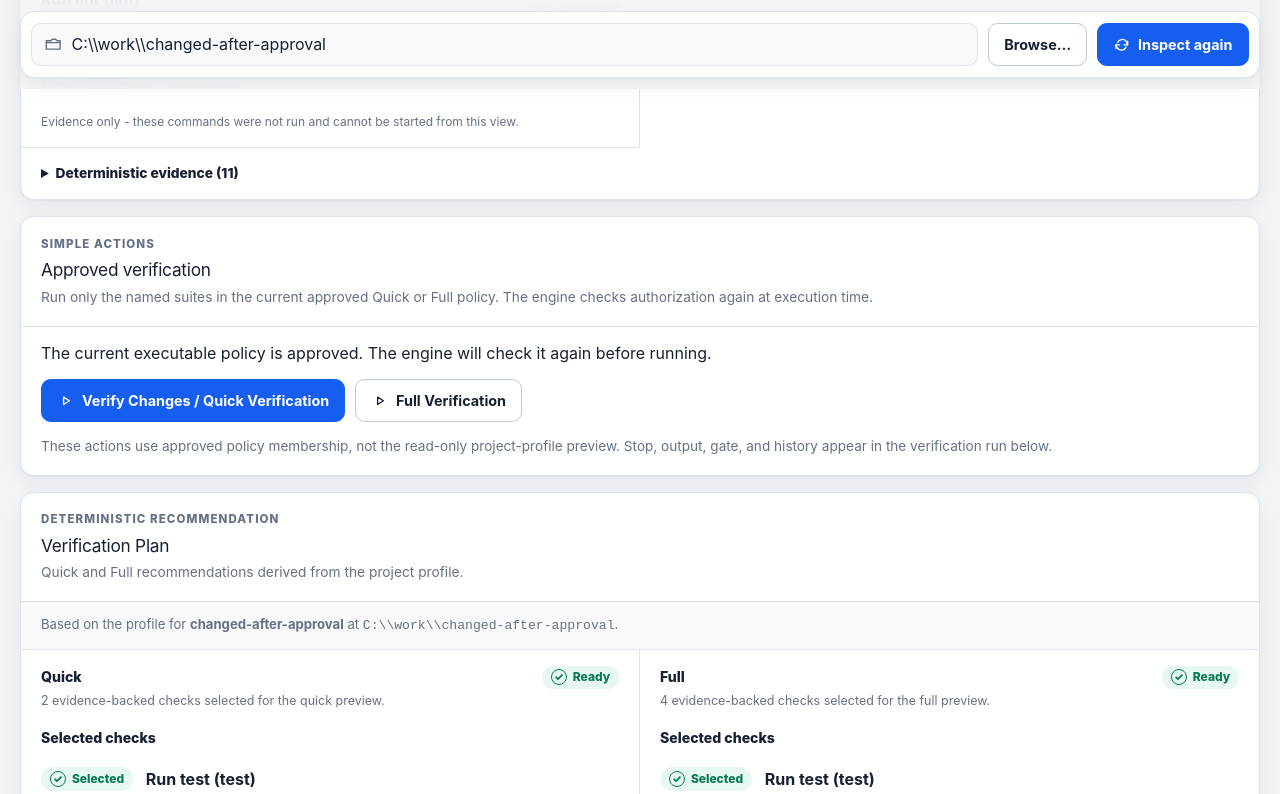
Test: desktop dashboard › rechecks approval and does not start a smart run when policy becomes outdated
(page scrolled)
Click the button "Full Verification" at [439, 401], box [355,379,522,422]
(page scrolled)
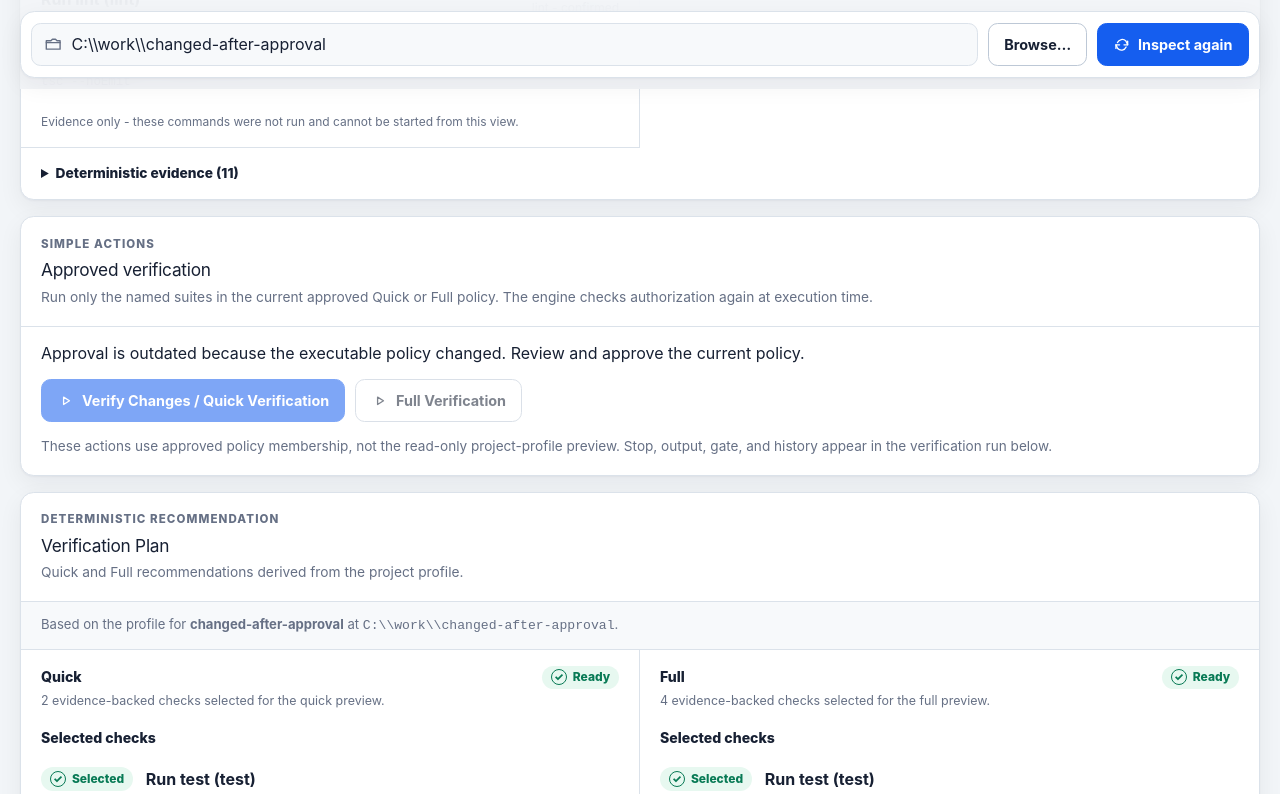
Expected: the element "Approved verification" shows "Approval is outdated", [41,343,805,363]
Expected: the button "Full Verification" is disabled, [355,379,522,422]
